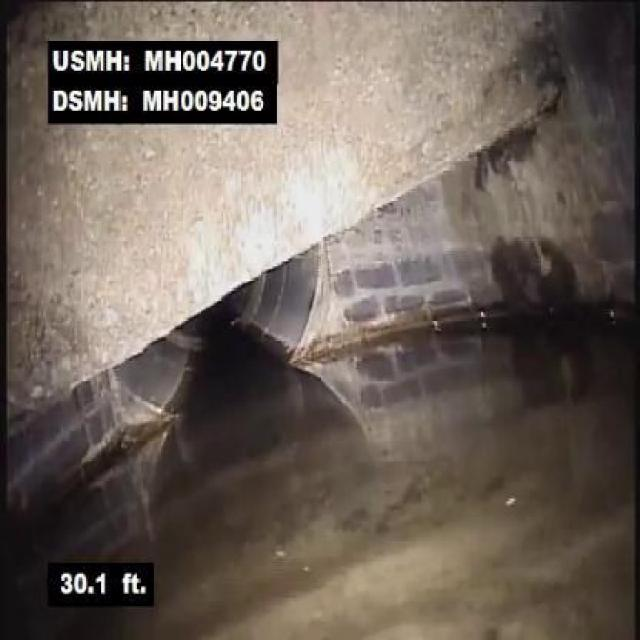Utility intrusion: (282, 11, 628, 283), (10, 128, 278, 437)
